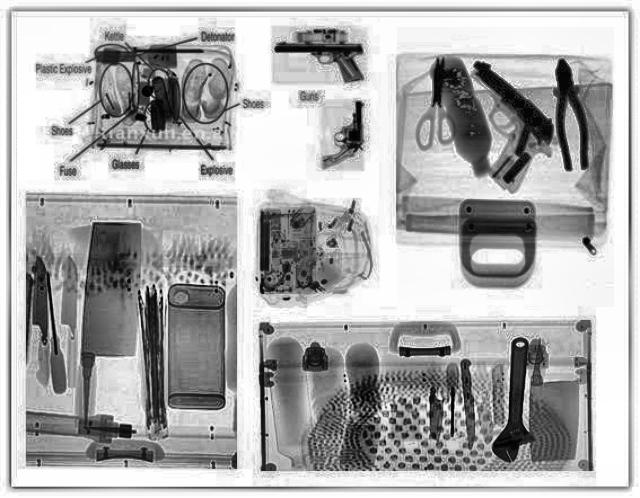Gun: (269, 28, 367, 82), (318, 95, 364, 169)
Knife: (78, 220, 142, 430), (411, 56, 457, 148), (58, 255, 80, 341), (30, 252, 48, 346)
Pliers: (552, 58, 590, 170)
Wrench: (488, 337, 536, 463)
